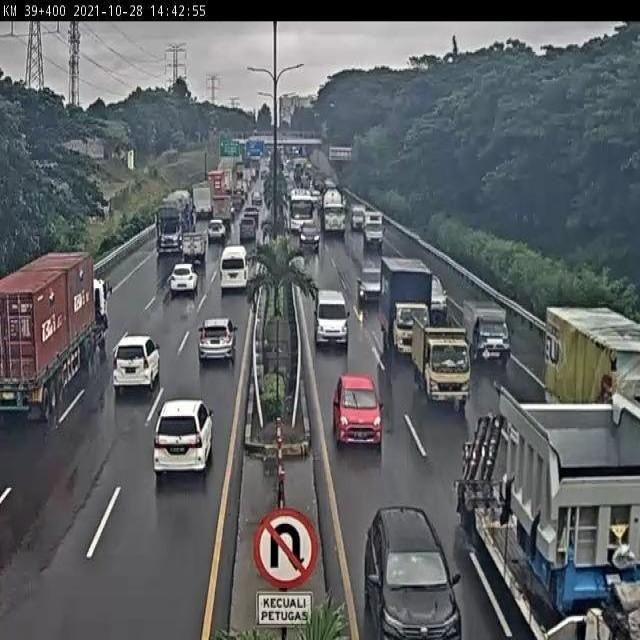Bus: (289, 188, 315, 234)
Car: (365, 504, 461, 640), (153, 398, 214, 475), (332, 372, 384, 448), (112, 333, 160, 392), (197, 316, 237, 363), (169, 263, 199, 298), (298, 223, 320, 251), (207, 219, 226, 242), (252, 191, 262, 205)
Truck: (459, 381, 640, 640), (1, 251, 102, 423), (542, 303, 640, 437), (408, 315, 471, 411), (376, 258, 434, 357), (462, 299, 511, 367), (154, 189, 194, 255), (322, 188, 346, 237), (192, 183, 213, 223), (183, 232, 206, 266), (363, 210, 383, 247)
Van: (314, 289, 349, 348), (219, 243, 249, 290)
